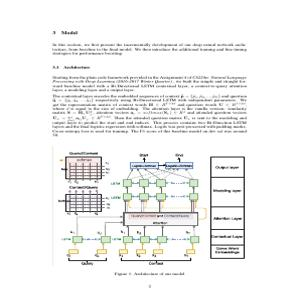diagram: (53, 146, 252, 272)
text: (51, 62, 249, 141), (49, 29, 249, 59)
